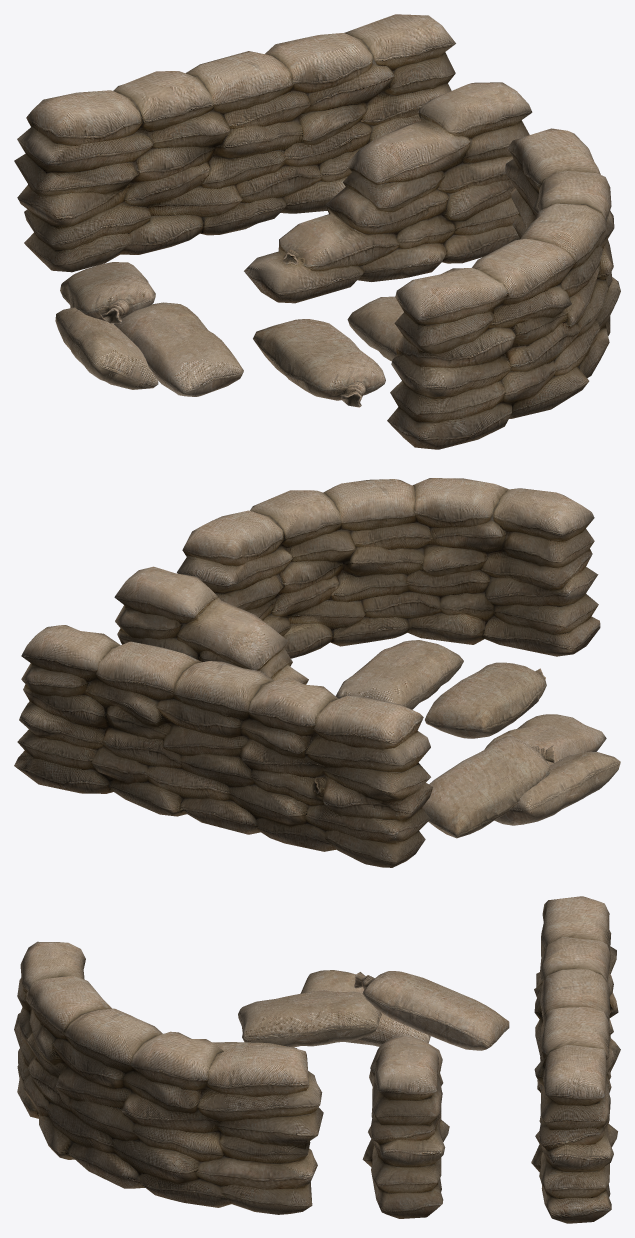
File: Sand_Bag_FBX.FBX
The picture shows the model from 3 angles, top to bottom: view 1: azimuth 30°, elevation 25°; view 2: azimuth 150°, elevation 25°; view 3: azimuth 270°, elevation 25°; orthographic projection. The views are drawn at different scales.
Visible parts, largest first — view 1: Sandbags_01, Sandbags_03, Sandbags_02, Sandbags_07, Sandbags_08, Sandbags_06, Sandbags_05, Sandbags_04; view 2: Sandbags_01, Sandbags_03, Sandbags_02, Sandbags_05, Sandbags_08, Sandbags_04, Sandbags_06, Sandbags_07; view 3: Sandbags_03, Sandbags_01, Sandbags_02, Sandbags_05, Sandbags_07, Sandbags_06.
Part boxes in pixels (x1,y1,x2,y2): Sandbags_01: [14, 14, 455, 272]; Sandbags_03: [387, 128, 620, 449]; Sandbags_02: [244, 82, 532, 303]; Sandbags_07: [114, 302, 243, 396]; Sandbags_08: [253, 319, 385, 407]; Sandbags_06: [55, 307, 158, 389]; Sandbags_05: [60, 262, 155, 323]; Sandbags_04: [347, 296, 403, 361]; Sandbags_01: [14, 625, 433, 867]; Sandbags_03: [177, 478, 600, 658]; Sandbags_02: [114, 566, 308, 684]; Sandbags_05: [422, 736, 554, 838]; Sandbags_08: [425, 662, 546, 738]; Sandbags_04: [335, 640, 463, 709]; Sandbags_06: [494, 752, 620, 825]; Sandbags_07: [484, 714, 606, 765]; Sandbags_03: [14, 941, 323, 1214]; Sandbags_01: [531, 896, 620, 1223]; Sandbags_02: [362, 1035, 449, 1218]; Sandbags_05: [354, 971, 509, 1050]; Sandbags_07: [238, 990, 381, 1047]; Sandbags_06: [300, 970, 430, 1046].
Bounding box in the file's own units: 379 × 129 × 424.
Materials: 3 (3 with a texture image).
